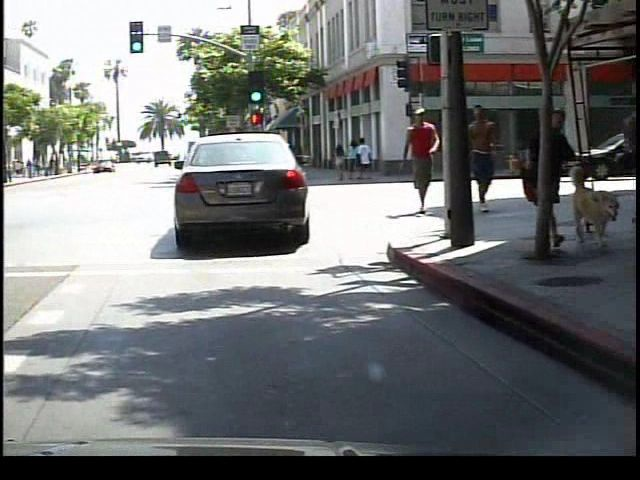person: (396, 100, 441, 223), (463, 99, 505, 220)
